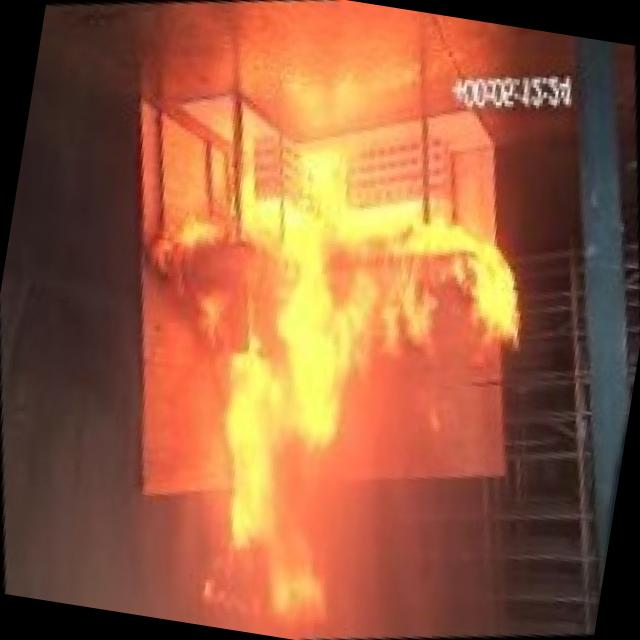fire: (62, 30, 621, 640)
